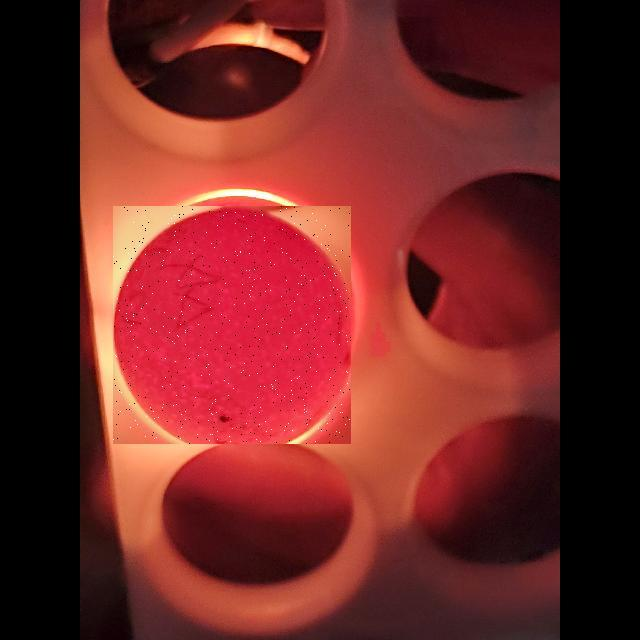Infertile: (113, 206, 351, 444)
